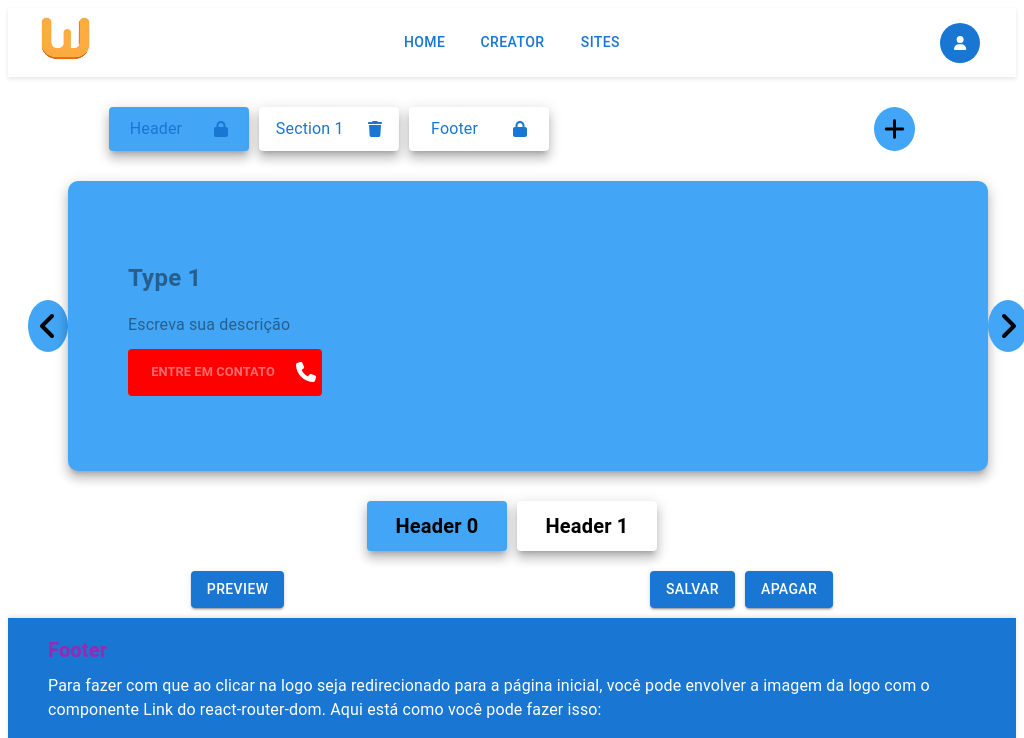
Scenario: LPCreator › Should change reactComponent when clicked
The image size is (1024, 738).
Expected: the text box with placeholder "Type 1" is shown, 128,260 -> 928,296
What coordinates should you click on to do the following:
click the text "Header 1"
I would click on:
 (587, 526)
Its box is 546,514 -> 628,538.
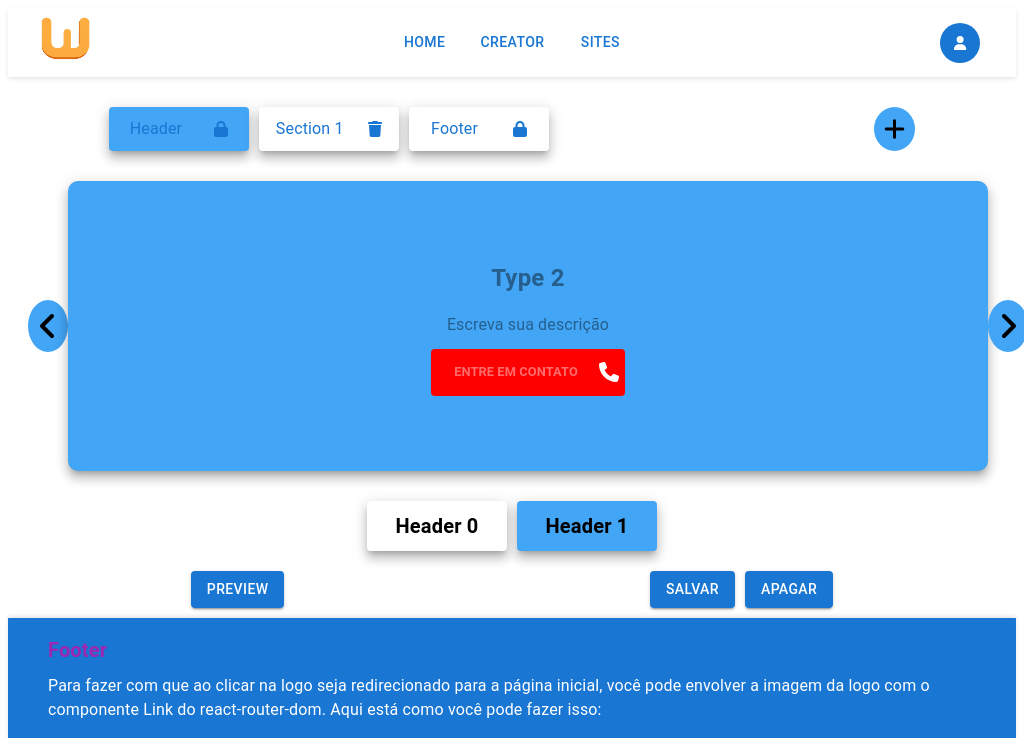
Expected: the text box with placeholder "Type 2" is shown, 128,260 -> 928,296
